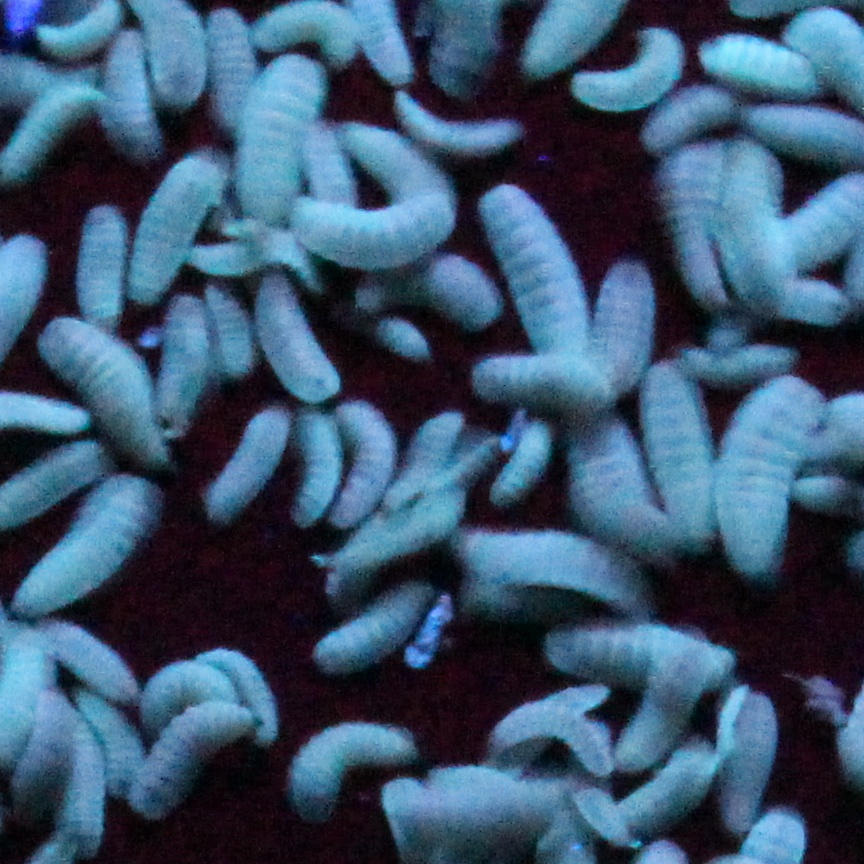larve: (715, 378, 824, 583), (39, 312, 172, 471), (12, 474, 157, 616), (481, 186, 596, 357), (120, 702, 267, 818), (462, 530, 653, 616), (229, 62, 329, 223), (129, 152, 231, 307), (644, 366, 722, 552), (289, 718, 420, 821), (284, 193, 463, 261), (724, 143, 794, 316), (546, 628, 738, 690), (201, 404, 293, 519), (258, 274, 341, 397), (570, 30, 686, 118), (0, 81, 101, 181), (393, 86, 527, 159), (322, 581, 439, 662), (336, 397, 401, 533), (388, 409, 470, 511), (27, 621, 139, 695), (474, 350, 619, 407), (481, 712, 610, 774), (96, 33, 160, 157), (720, 693, 772, 838), (257, 2, 360, 66), (700, 36, 817, 90), (636, 88, 734, 152), (603, 259, 653, 383), (293, 407, 341, 530), (79, 204, 124, 331), (491, 419, 558, 504), (677, 347, 800, 376)
